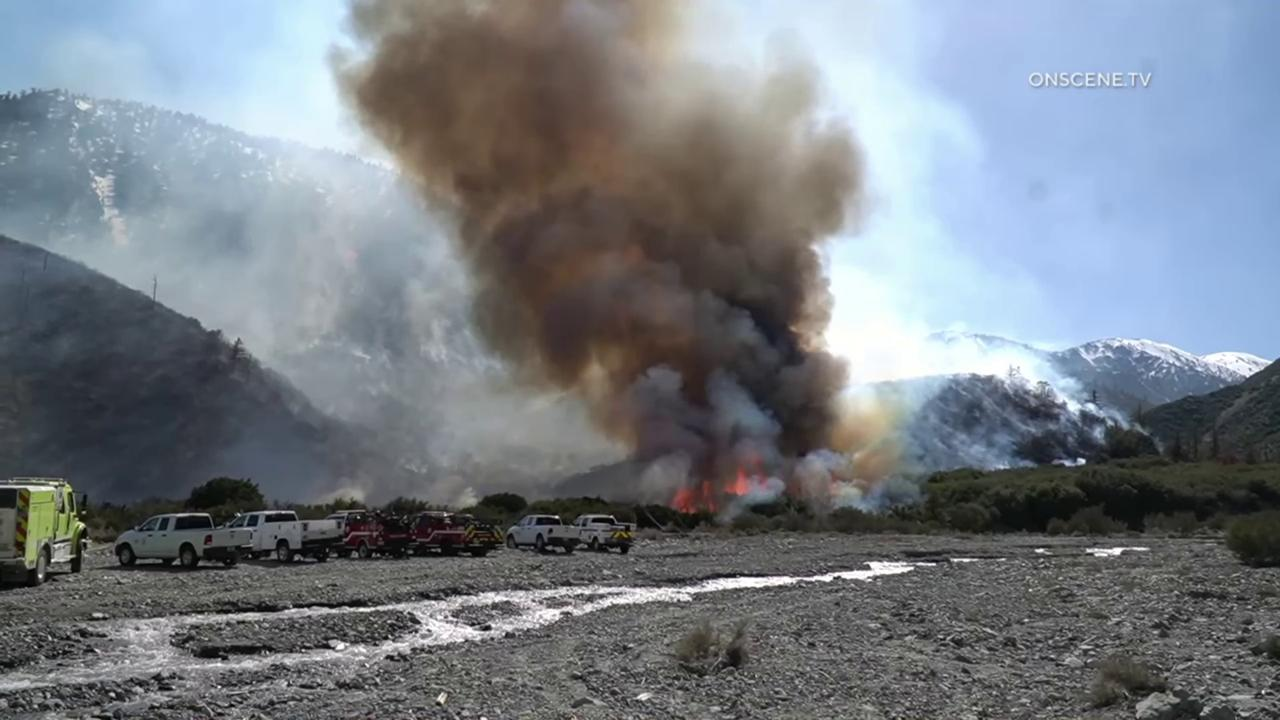fire: (670, 487, 697, 514), (721, 469, 747, 496), (703, 480, 715, 515)
smoke: (0, 0, 1150, 512)
